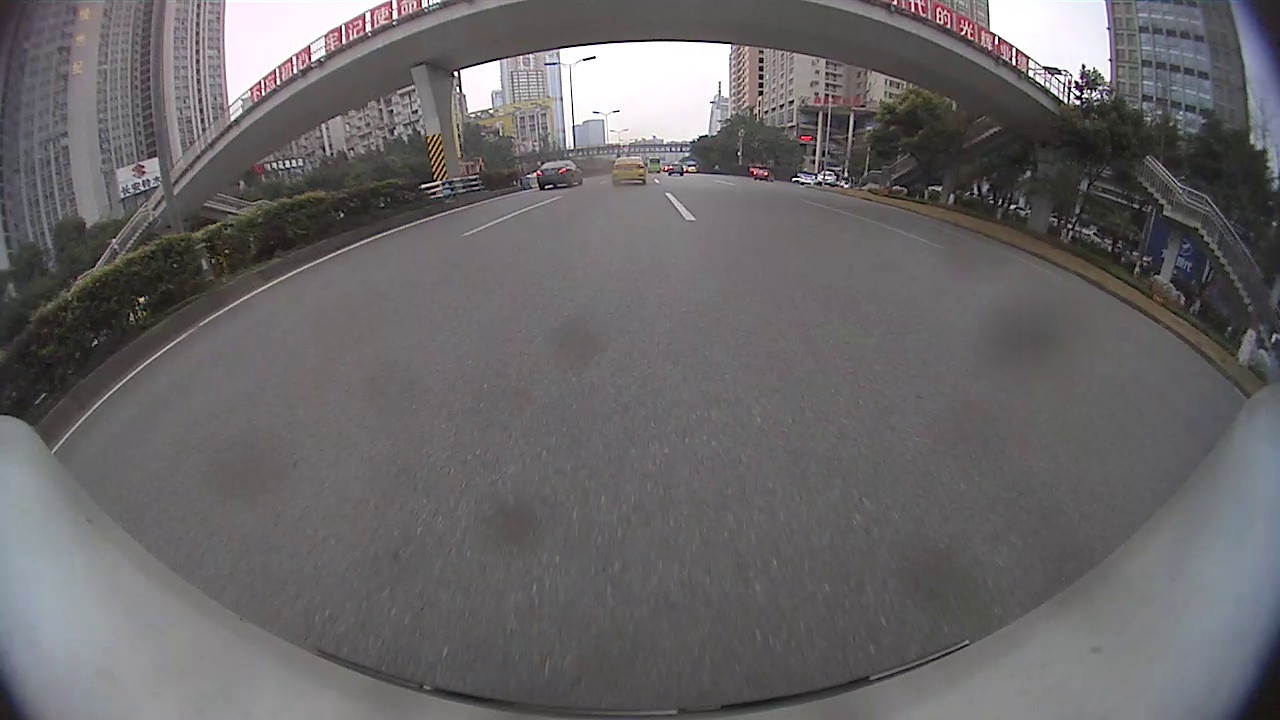bus: (646, 155, 661, 173)
car: (536, 158, 585, 189), (611, 157, 648, 186), (816, 168, 837, 186), (753, 169, 774, 182), (667, 163, 682, 176)
